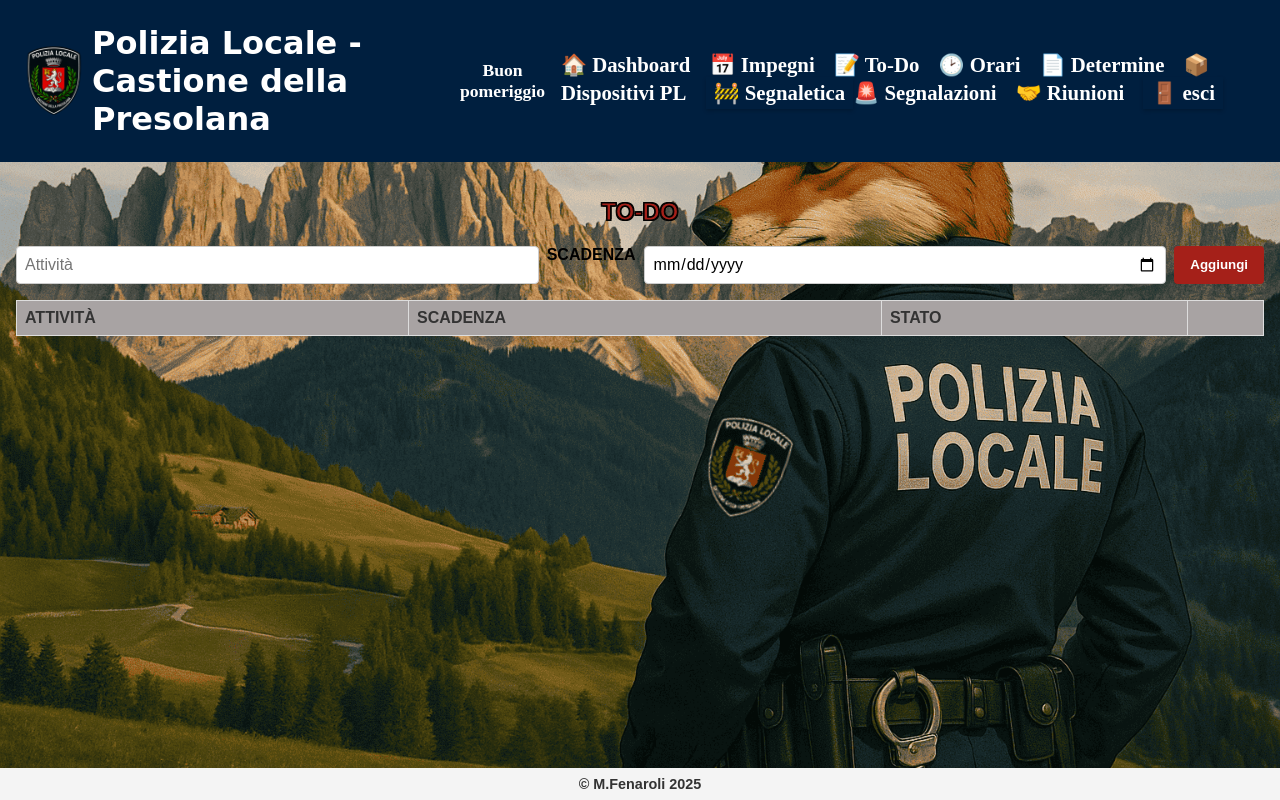
Test case: TodoPage offline › adds new todo offline
Type "Task 1" into the field with test id "todo-text" at (277, 265), box [16,246,539,284]
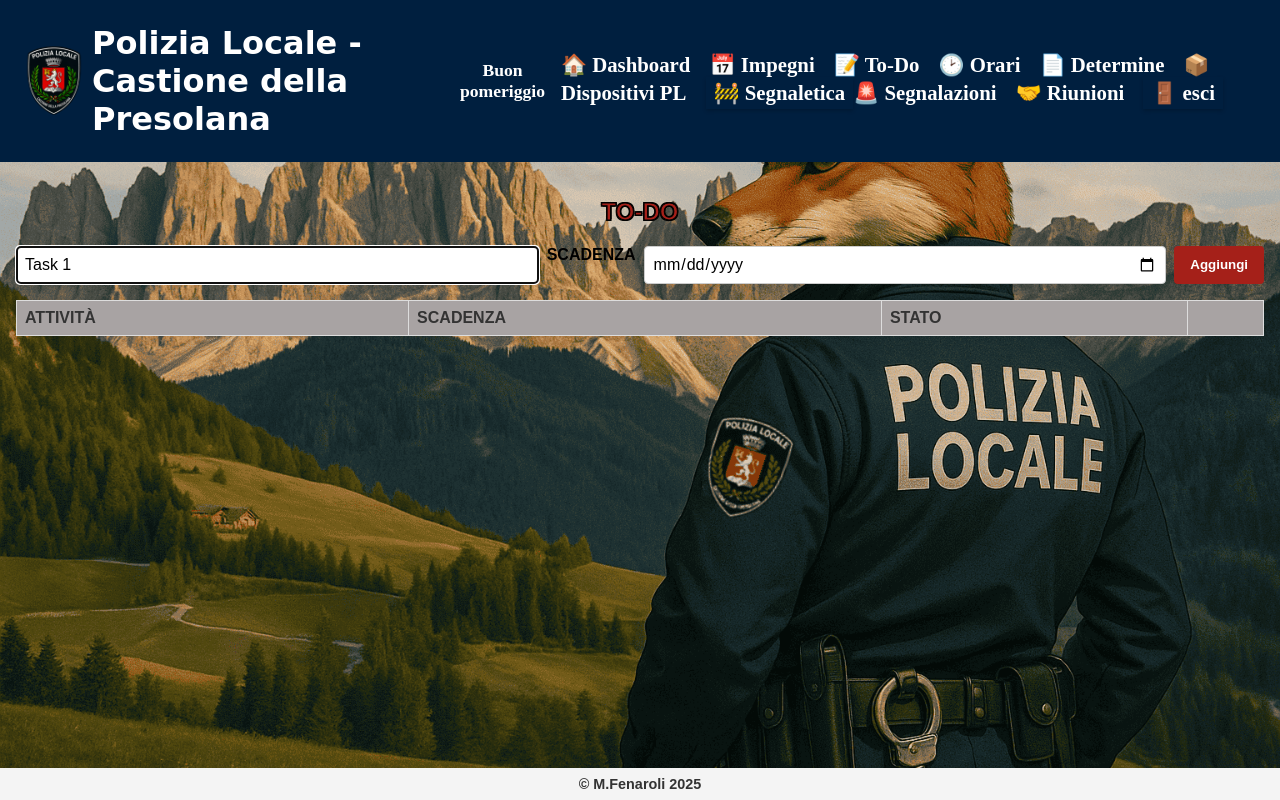
Type "2023-06-01" into the date field with test id "todo-due" at (905, 265), box [644,246,1166,284]
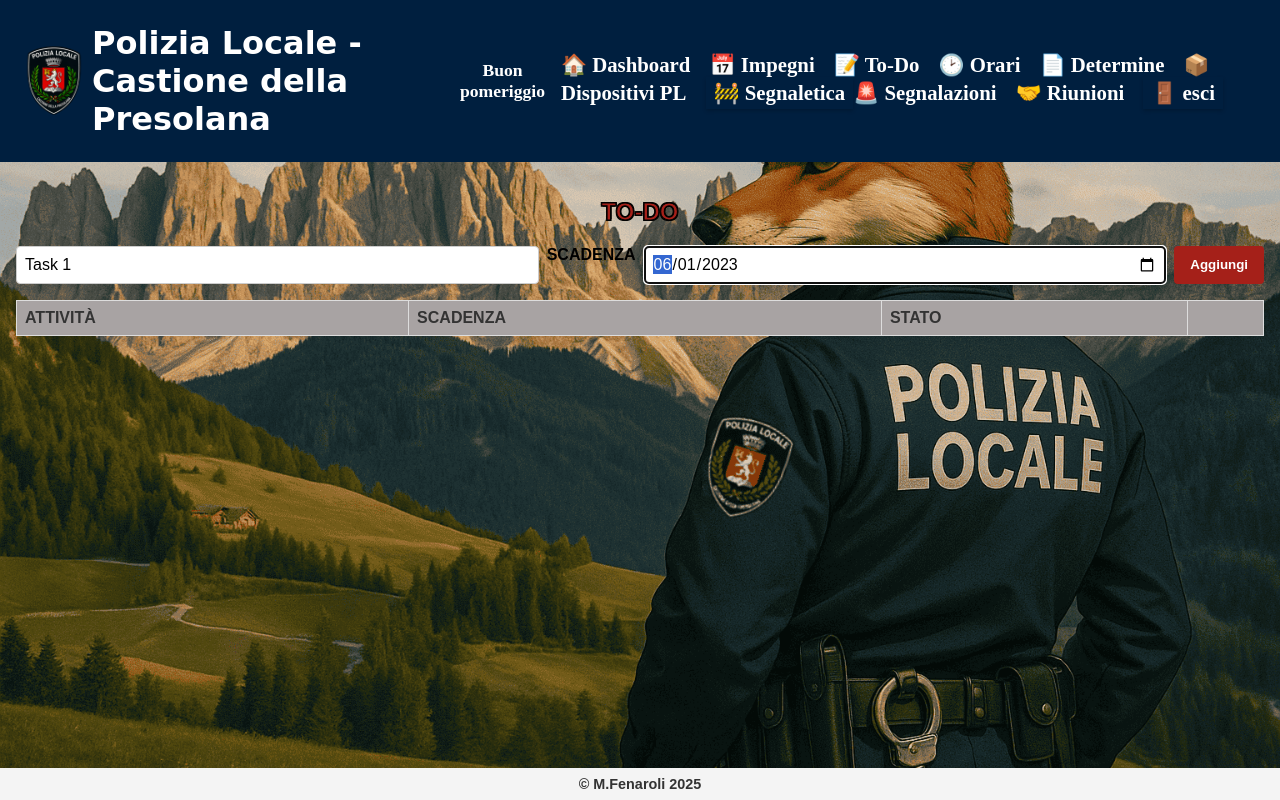
Click the button with test id "todo-submit" at (1219, 265), box [1174,246,1264,284]
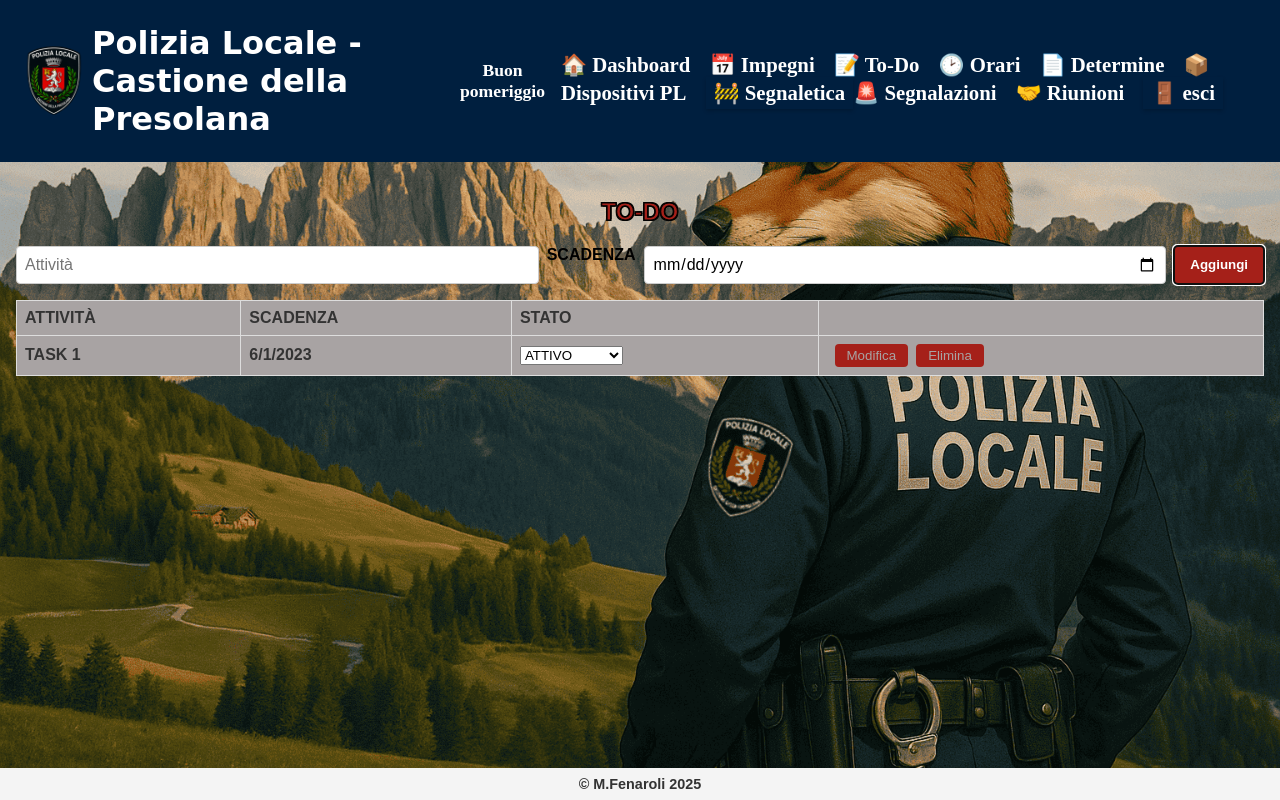
Expected: the text "Task 1" is shown, [16,335,241,375]
